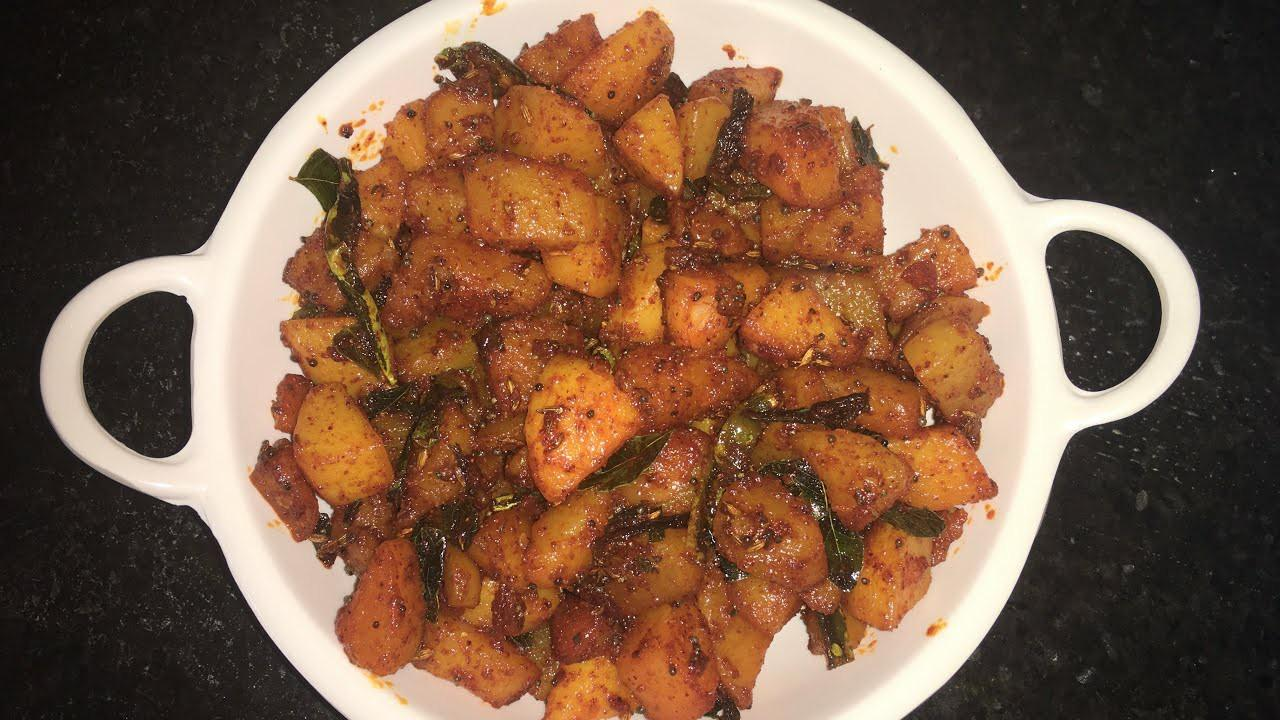AlooMasala: (250, 9, 1003, 720)
